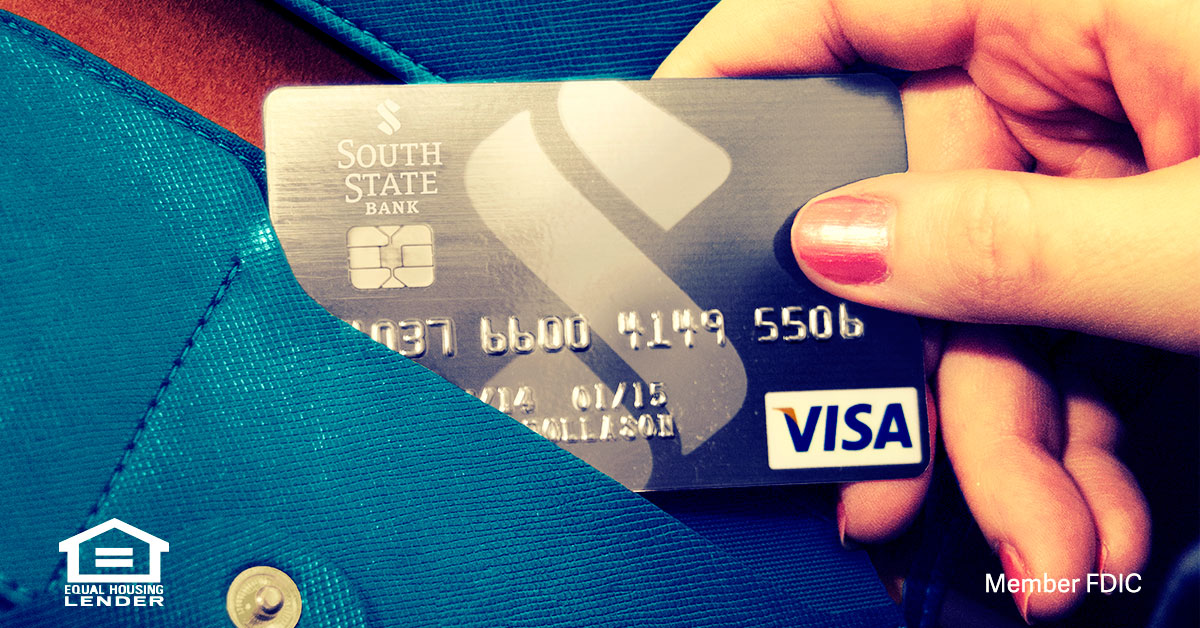tarjeta: (258, 68, 935, 494)
